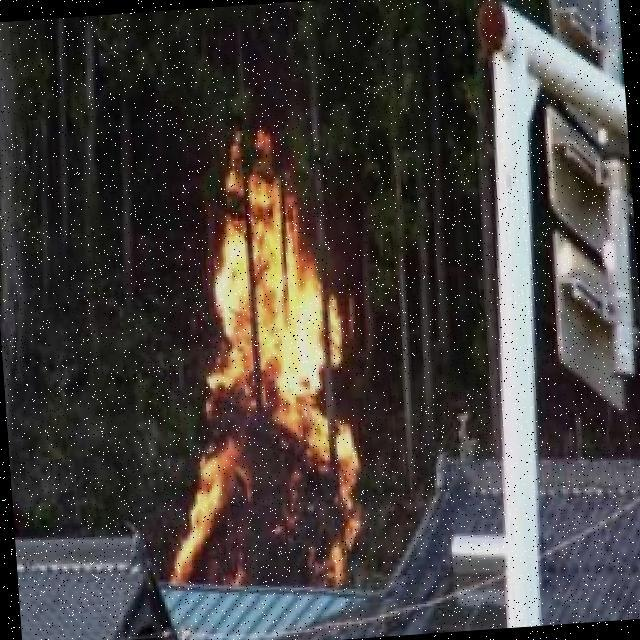Fire: (149, 151, 366, 599)
